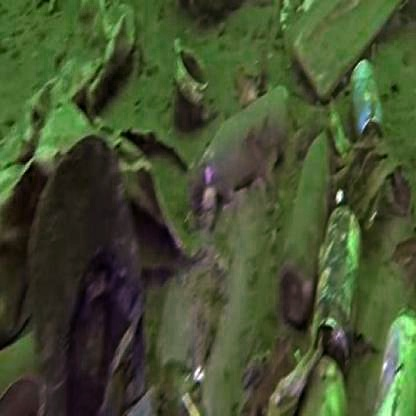can: (320, 191, 366, 370), (340, 39, 391, 168)
gbottle: (176, 103, 291, 195), (295, 113, 328, 333)
